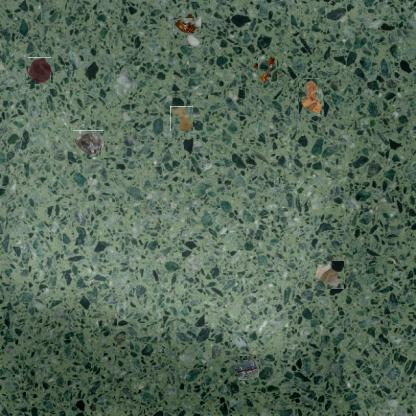dirty: (298, 78, 324, 114), (312, 261, 344, 289), (72, 130, 104, 157), (254, 58, 280, 83), (176, 14, 198, 38), (237, 357, 257, 379)
liquid: (27, 58, 52, 84), (170, 106, 193, 131)
